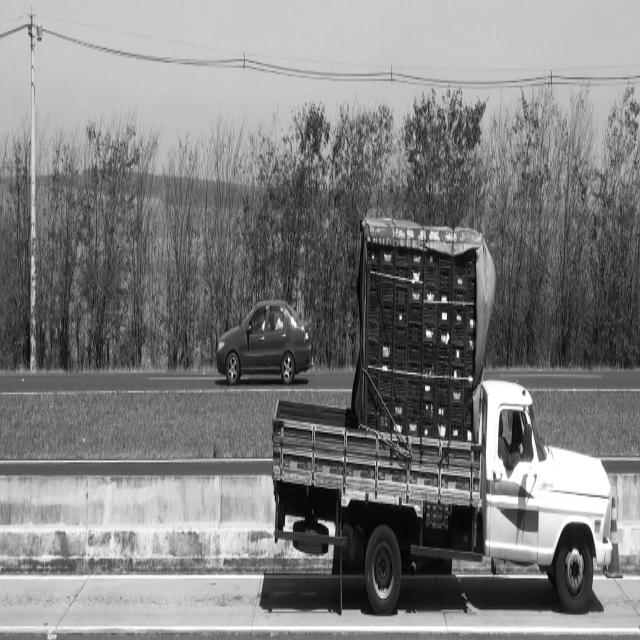Car: (216, 298, 312, 386)
Pole: (28, 6, 42, 373)
Truck: (273, 221, 612, 612)
